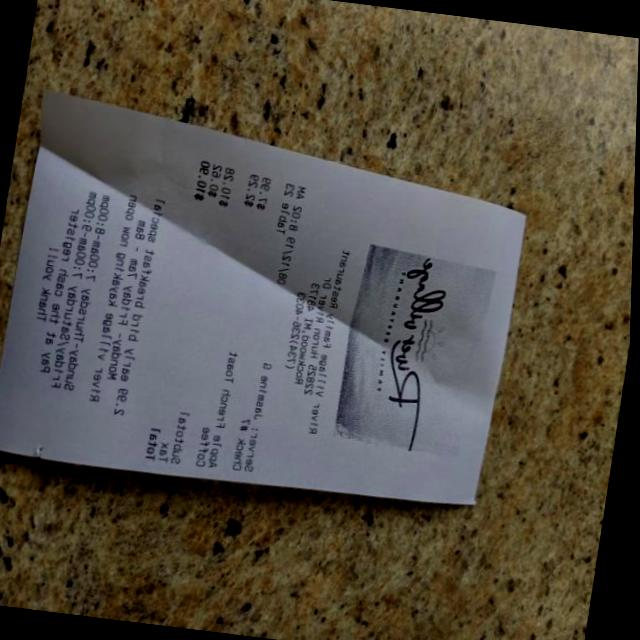Paper: (0, 83, 544, 511)
